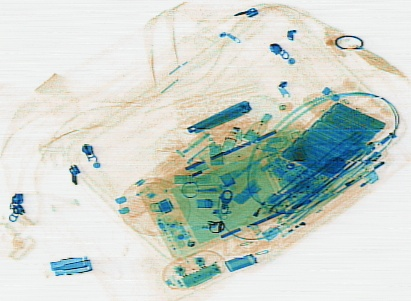lighter: (261, 203, 326, 243), (329, 168, 381, 213)
powerbank: (268, 95, 391, 191)
